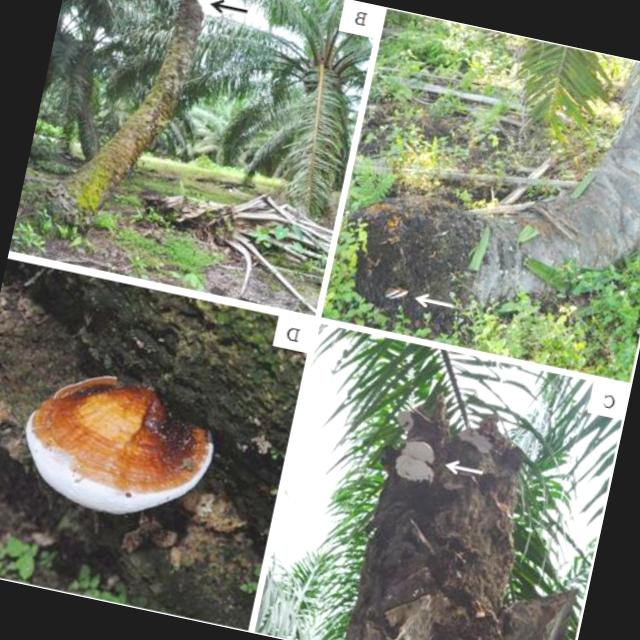ganoderma: (12, 354, 231, 536)
